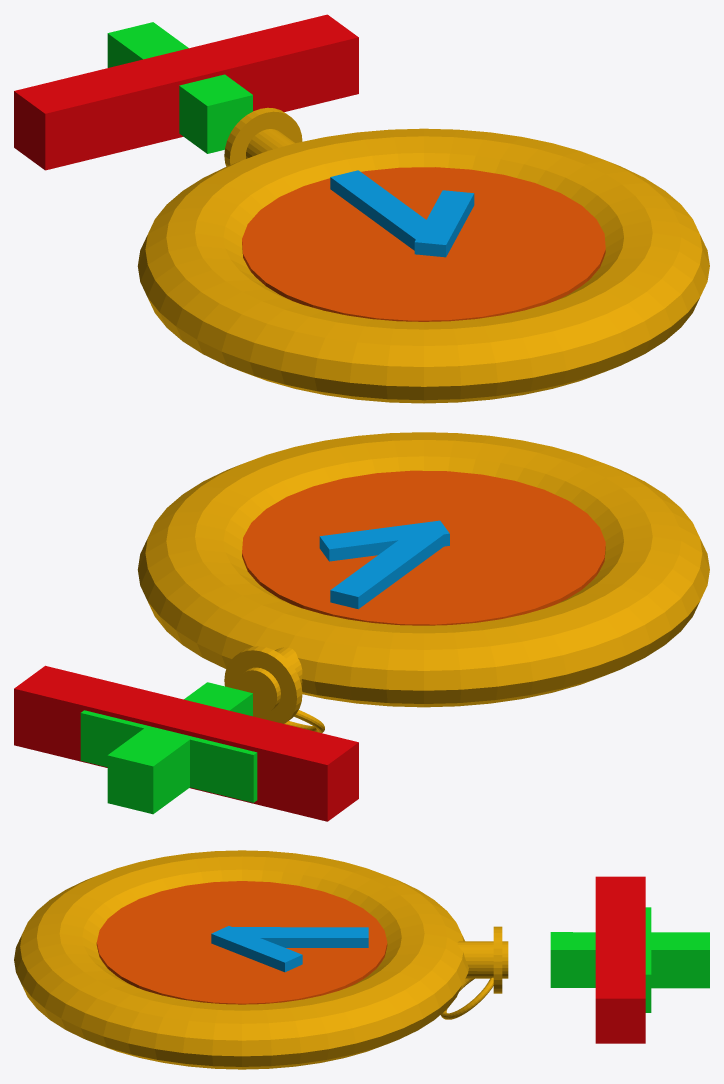
Rendered from Clock_Sroda.fbx.
3 views of the same model, one above another, from view 1: azimuth 30°, elevation 25°; view 2: azimuth 150°, elevation 25°; view 3: azimuth 270°, elevation 25° (orthographic). The views are drawn at different scales.
Visible parts, largest first — view 1: Clock, Minus, Plus; view 2: Clock, Minus, Plus; view 3: Clock, Minus, Plus.
Part boxes in pixels (x1,y1,x2,y2): Clock: (137,107,709,403); Minus: (14,14,358,170); Plus: (107,22,252,153); Clock: (137,432,709,732); Minus: (14,665,358,821); Plus: (80,682,257,814); Clock: (14,850,508,1069); Minus: (595,876,645,1043); Plus: (550,907,709,1012).
Size of the model in its own units: 87.75 by 18.08 by 134.
